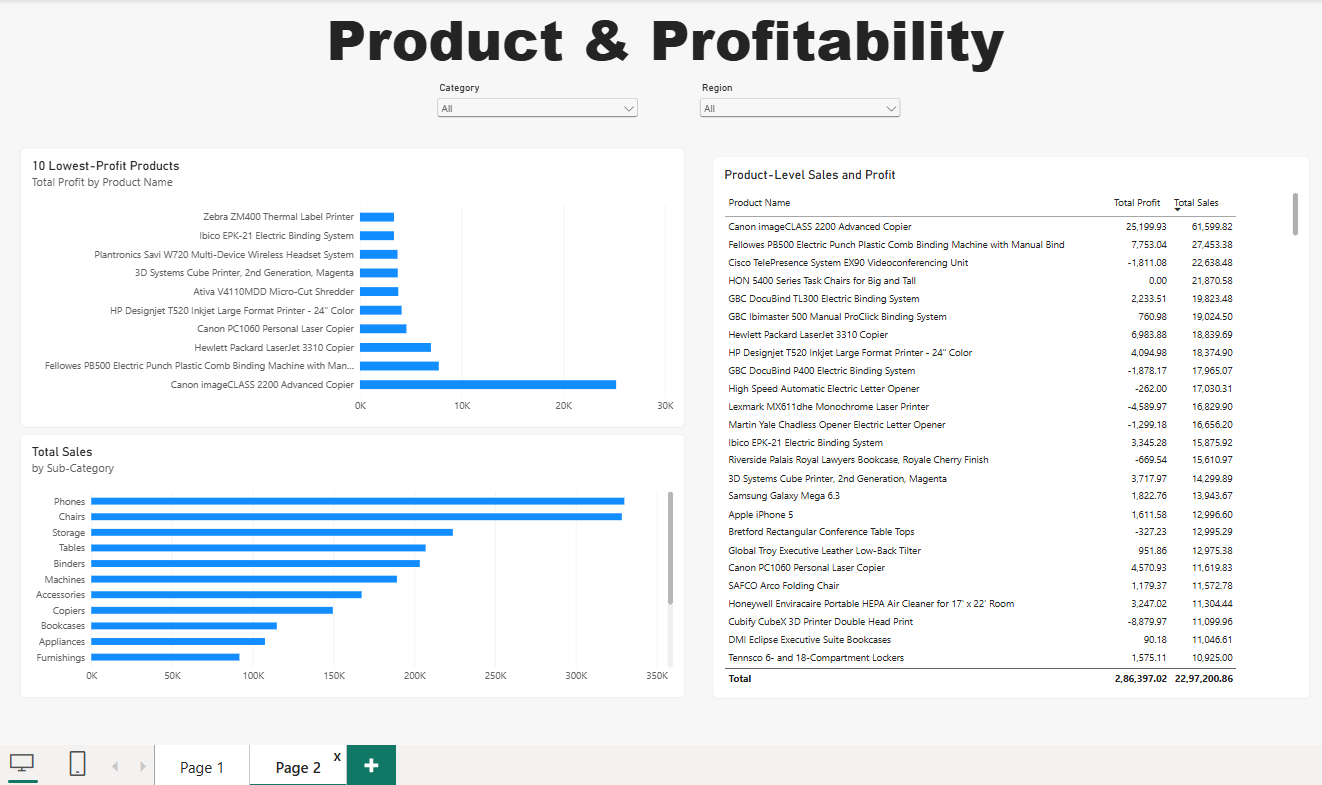

Layout of this report page (visuals, bound fields, positions):
{"tool":"powerbi","page":{"name":"Page 2","canvas":[1920,1080],"ordinal":1},"visuals":[{"type":"clusteredBarChart","fields":{"Category":["Superstore.Sub-Category"],"Y":["Superstore.Total Sales"]},"box":[30,630,962.5,382.5],"z":0},{"type":"tableEx","title":"Product-Level Sales and Profit","fields":{"Values":["Superstore.Product Name","Superstore.Total Profit","Superstore.Total Sales"]},"box":[1032.5,227.5,865,785],"z":1},{"type":"clusteredBarChart","title":"10 Lowest-Profit Products","fields":{"Category":["Superstore.Product Name"],"Y":["Superstore.Total Profit"]},"box":[30,215,962.5,405],"z":2},{"type":"slicer","fields":{"Values":["Superstore.Category"]},"box":[630,120,300,107.5],"z":3},{"type":"slicer","fields":{"Values":["Superstore.Region"]},"box":[1010,120,300,107.5],"z":4},{"type":"textbox","box":[30,0,1867.5,140],"z":5}]}

Visuals, with their boxes on the page's 1920x1080 design canvas (x1, y1, x2, y2). These are canvas units, not pixel positions in the 1322x785 screenshot, which may show the page scaled, cropped or inside an application window:
clusteredBarChart - Superstore.Sub-Category x Superstore.Total Sales: <bbox>30, 630, 992, 1012</bbox>
"Product-Level Sales and Profit" tableEx: <bbox>1032, 228, 1898, 1012</bbox>
"10 Lowest-Profit Products" clusteredBarChart: <bbox>30, 215, 992, 620</bbox>
slicer - Superstore.Category: <bbox>630, 120, 930, 228</bbox>
slicer - Superstore.Region: <bbox>1010, 120, 1310, 228</bbox>
textbox: <bbox>30, 0, 1898, 140</bbox>
